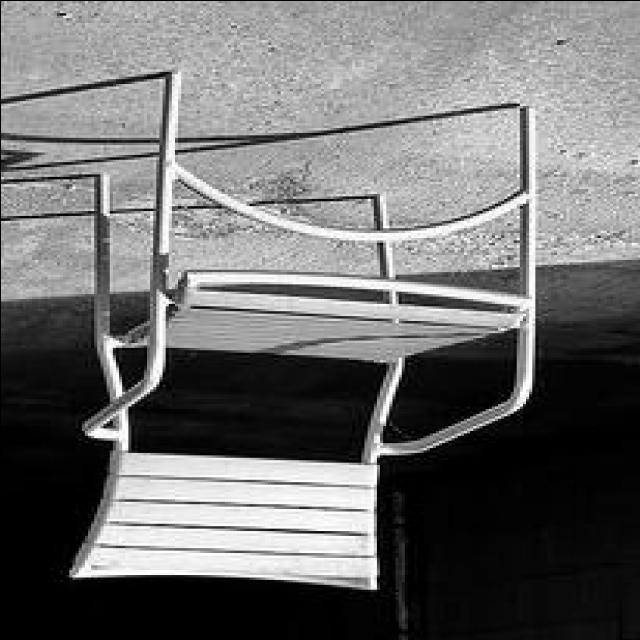chair: (60, 71, 538, 590)
